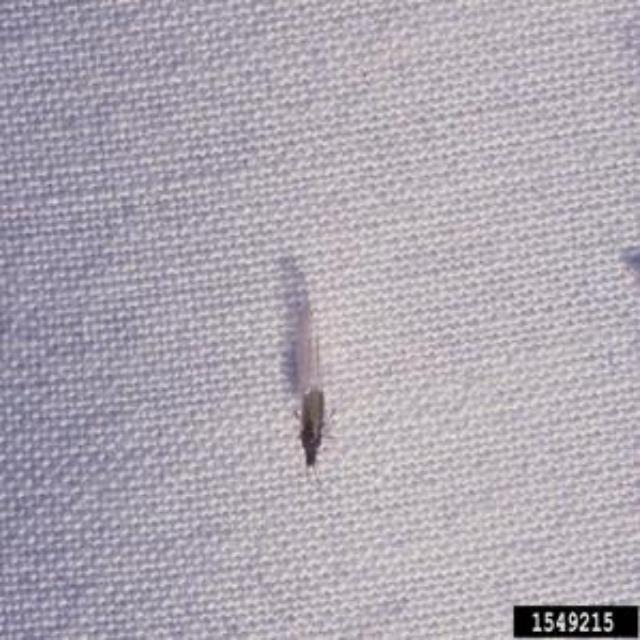Green peach aphid: (258, 353, 374, 483)
